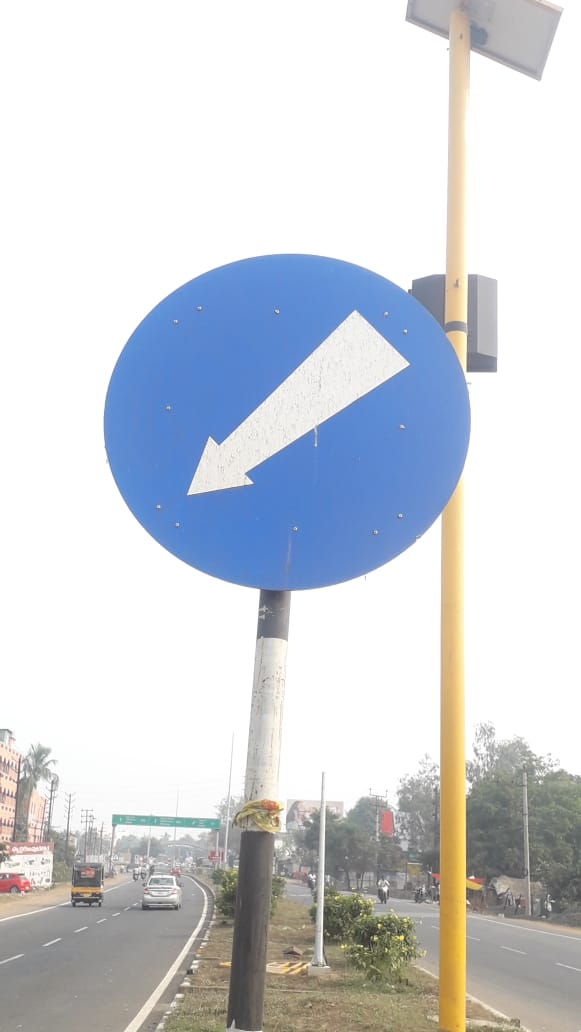go left: (93, 235, 523, 663)
